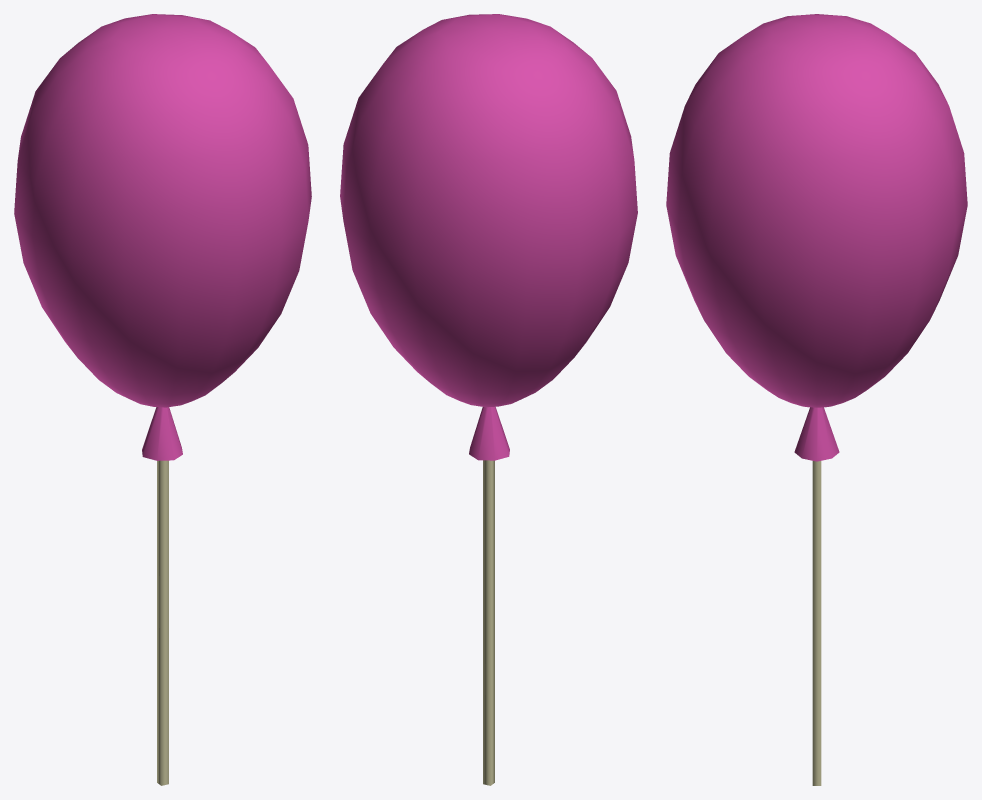
Rendered from Balloon_01_Red.FBX.
3 renders of one model, left to right at view 1: azimuth 30°, elevation 25°; view 2: azimuth 150°, elevation 25°; view 3: azimuth 270°, elevation 25°, orthographic.
Visible parts, largest first — view 1: Balloon_01_Red; view 2: Balloon_01_Red; view 3: Balloon_01_Red.
Part boxes in pixels (bbox=[...]): Balloon_01_Red: bbox=[14, 14, 311, 785]; Balloon_01_Red: bbox=[340, 14, 637, 785]; Balloon_01_Red: bbox=[666, 14, 967, 785].
Bounding box in the file's own units: 7.8 × 21.56 × 7.8.
